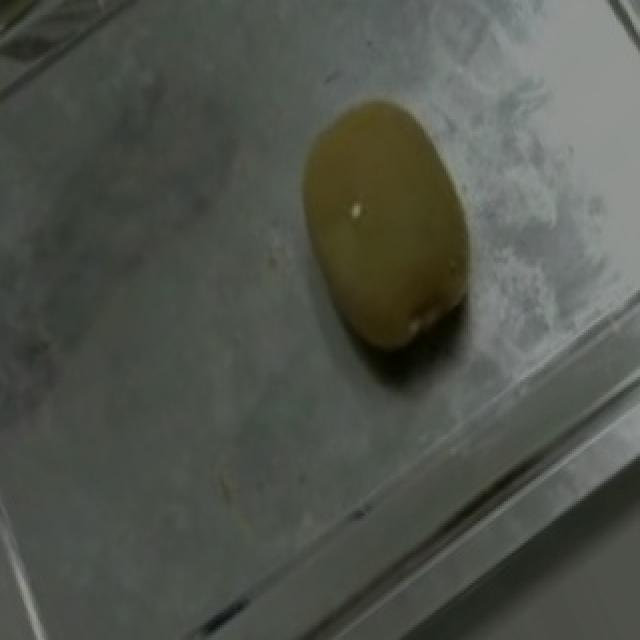Fruit: (256, 72, 516, 392)
